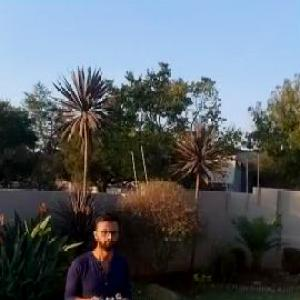follow: (59, 205, 135, 299)
